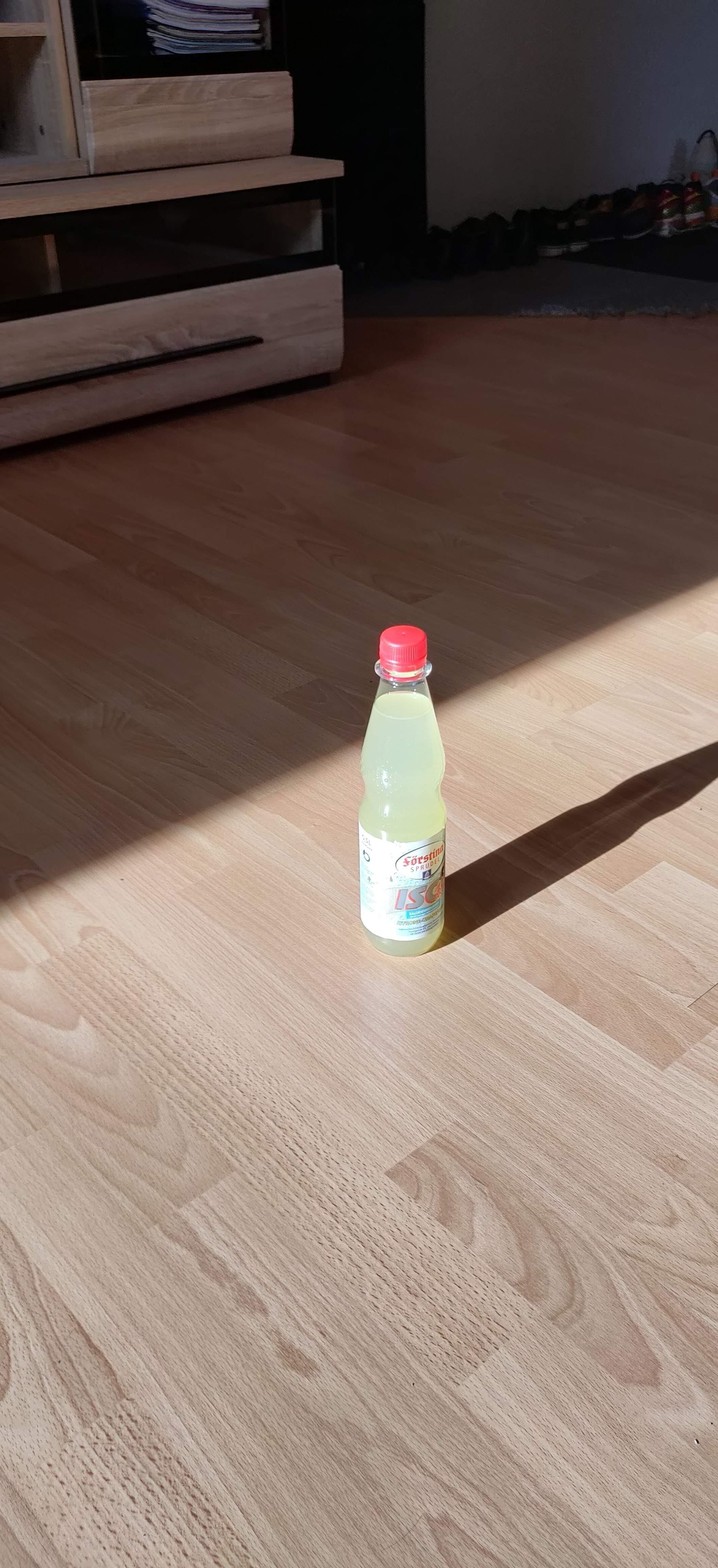bottle-plastic: (362, 625, 449, 956)
